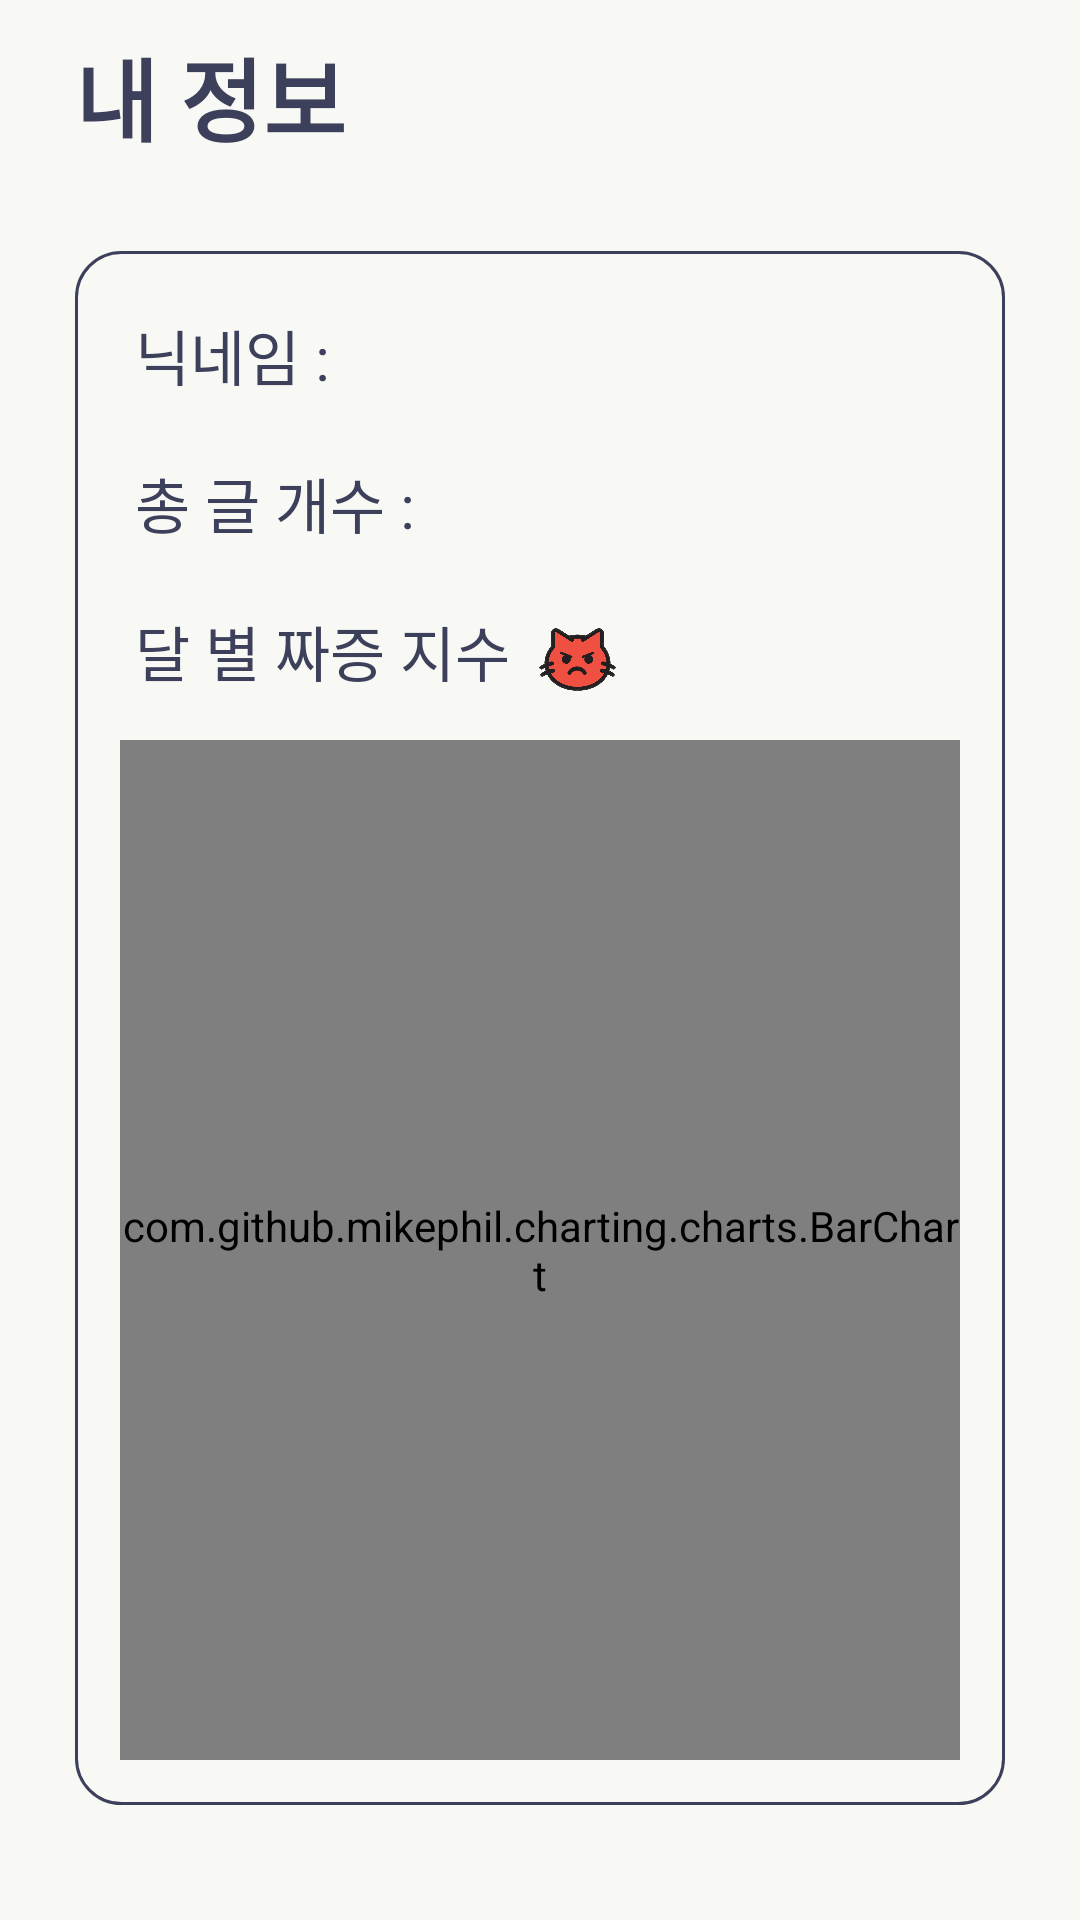

Screen size 1080×1920. Icon name, then its center in pixels as (x,y):
angry cat: (577,659)
